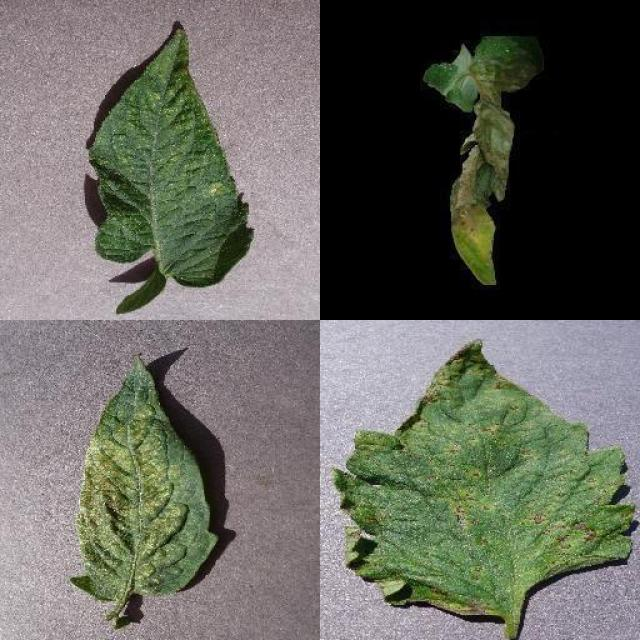Late Blight: (424, 34, 538, 286)
Septoria: (333, 340, 635, 616)
